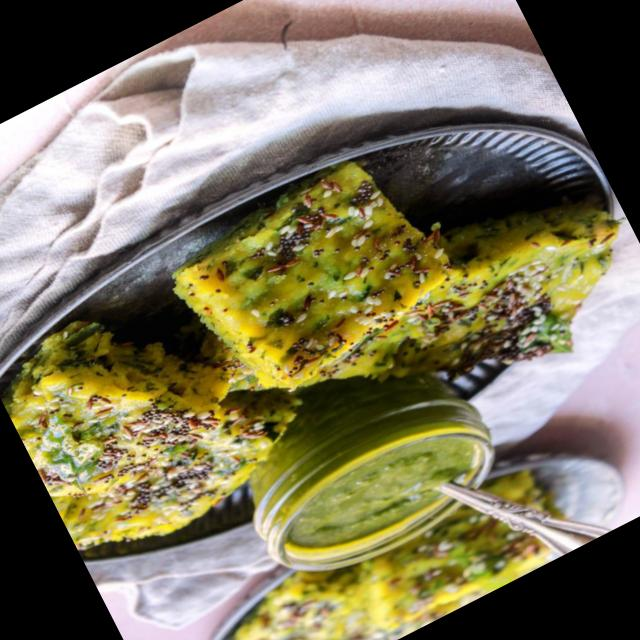dhokla: (0, 54, 640, 584), (194, 439, 605, 640)
